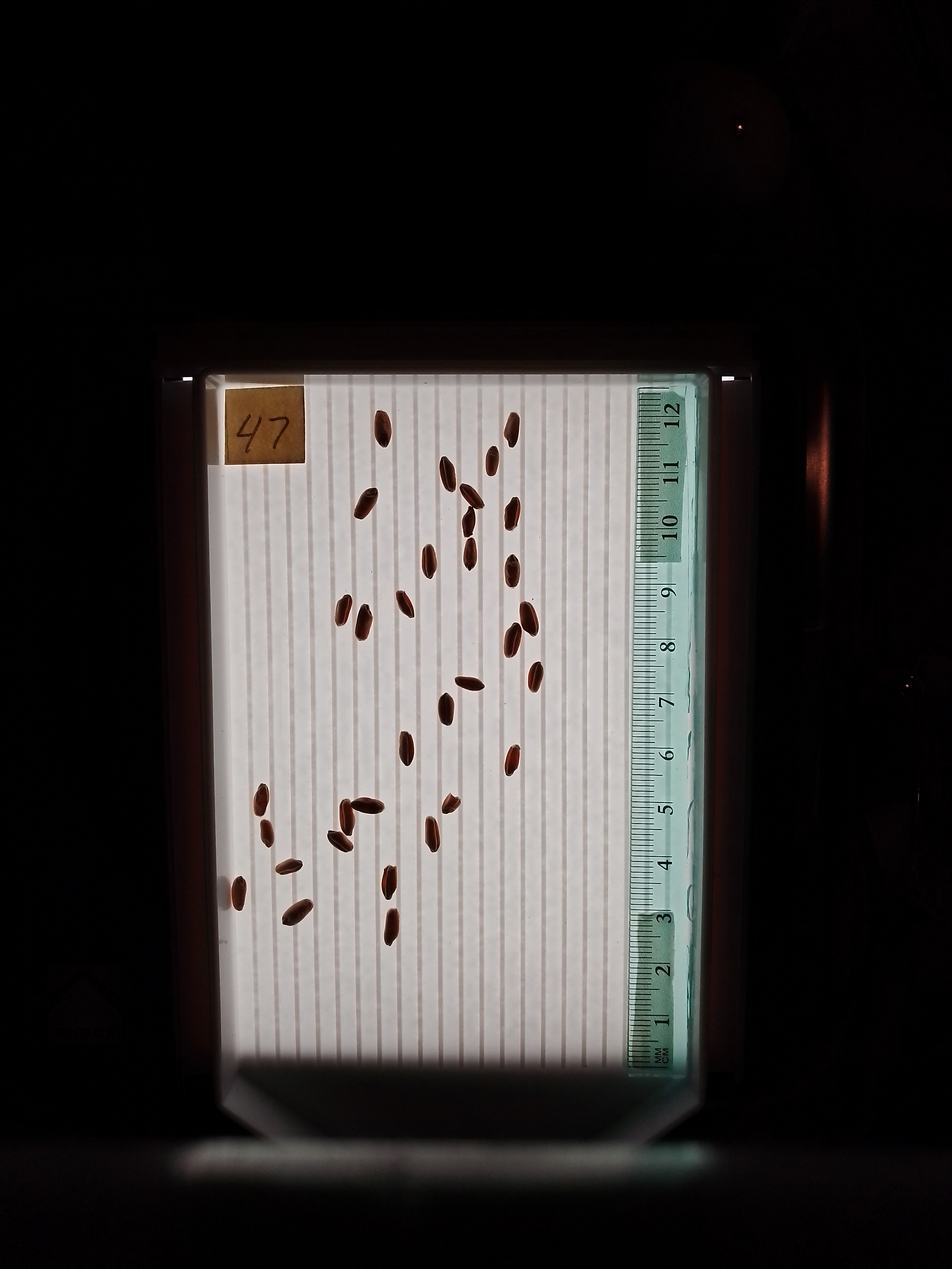seed mask: (282, 900, 312, 926), (354, 487, 378, 519), (374, 411, 392, 447), (355, 605, 373, 640), (460, 483, 483, 510), (520, 602, 538, 635), (504, 624, 521, 658), (352, 796, 384, 814), (384, 909, 400, 945), (328, 830, 353, 853), (421, 545, 438, 578), (440, 457, 456, 492), (424, 817, 440, 852), (339, 800, 355, 835), (504, 413, 520, 447), (399, 732, 415, 765), (381, 866, 397, 899), (396, 591, 415, 618), (335, 595, 352, 625), (231, 877, 246, 911), (505, 497, 520, 530), (505, 556, 520, 587), (439, 694, 454, 725), (505, 745, 520, 776), (253, 784, 268, 815), (528, 663, 543, 692), (275, 859, 302, 875), (485, 447, 499, 476), (456, 676, 483, 691), (463, 539, 476, 570), (260, 820, 274, 847), (462, 509, 475, 536)
